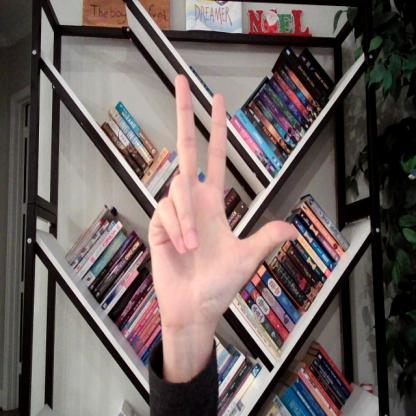three: (146, 75, 304, 337)
